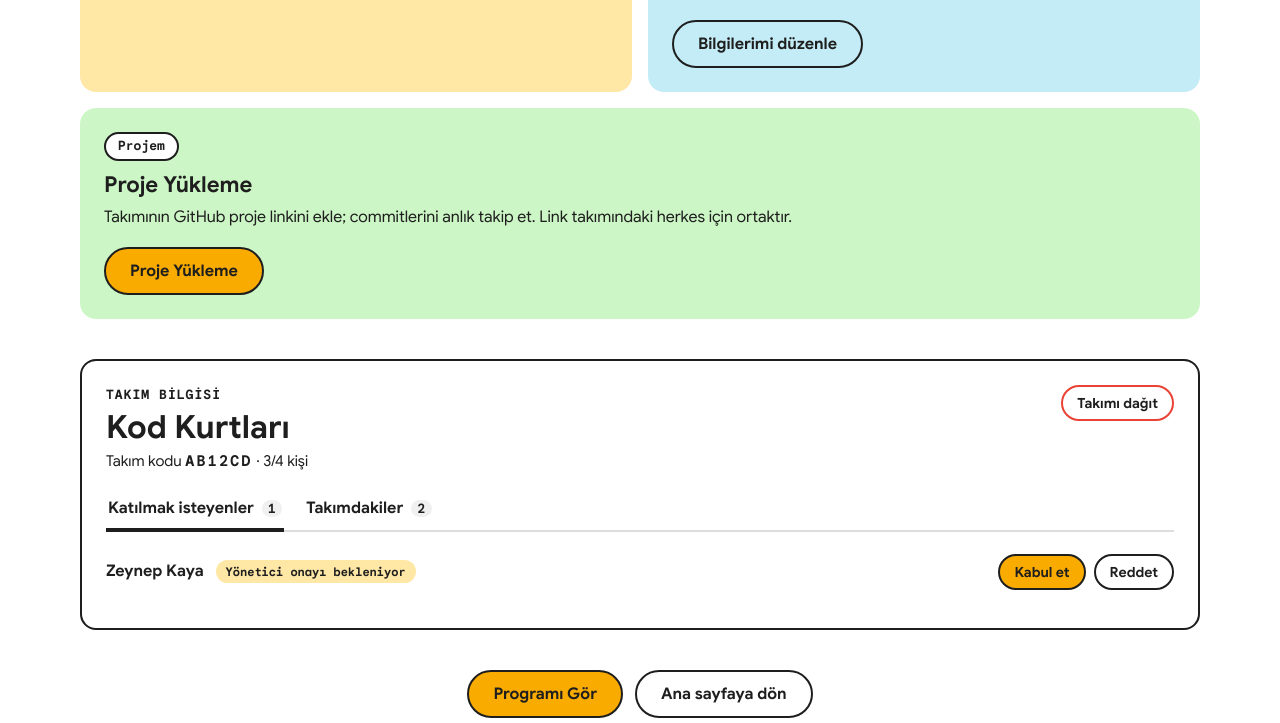
Başvurum sayfası › takımı dağıtmak için e-postaya gelen kod istenir
(page scrolled)
Click the button "Takımı dağıt" at [1118, 403], box [1061,385,1174,421]
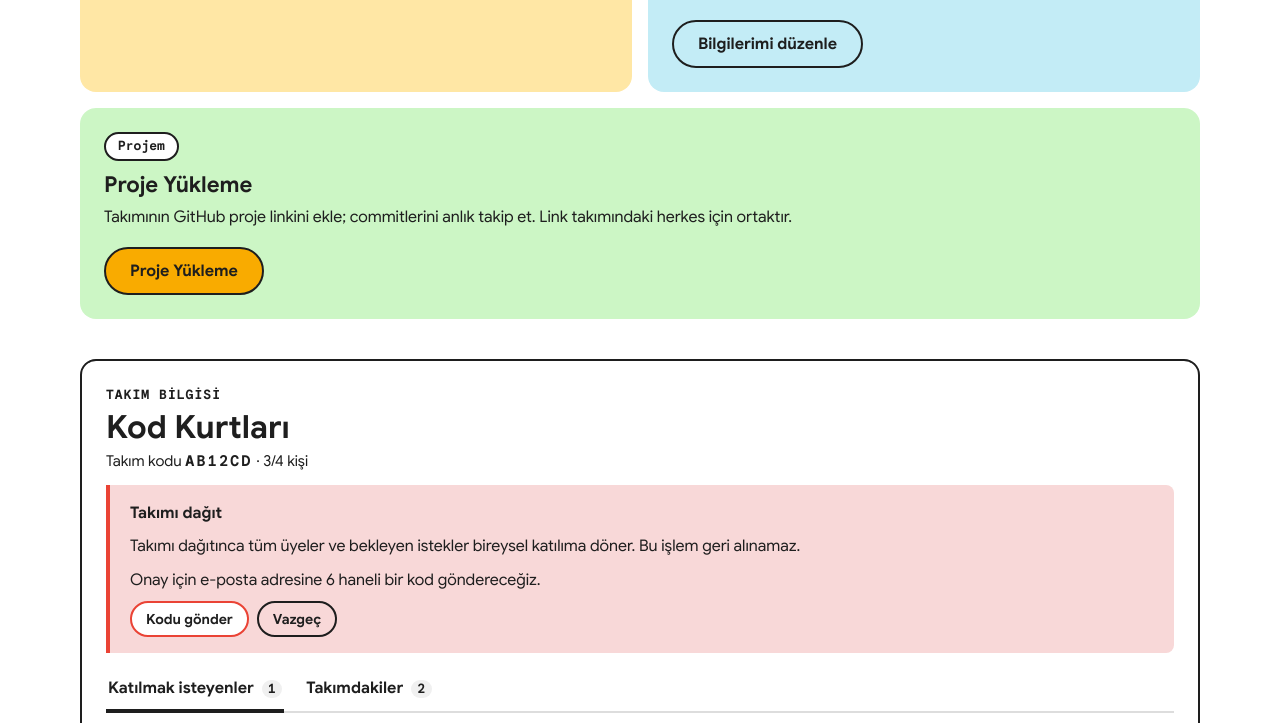
Click the button "Kodu gönder" at [189, 620], box [130,602,249,638]
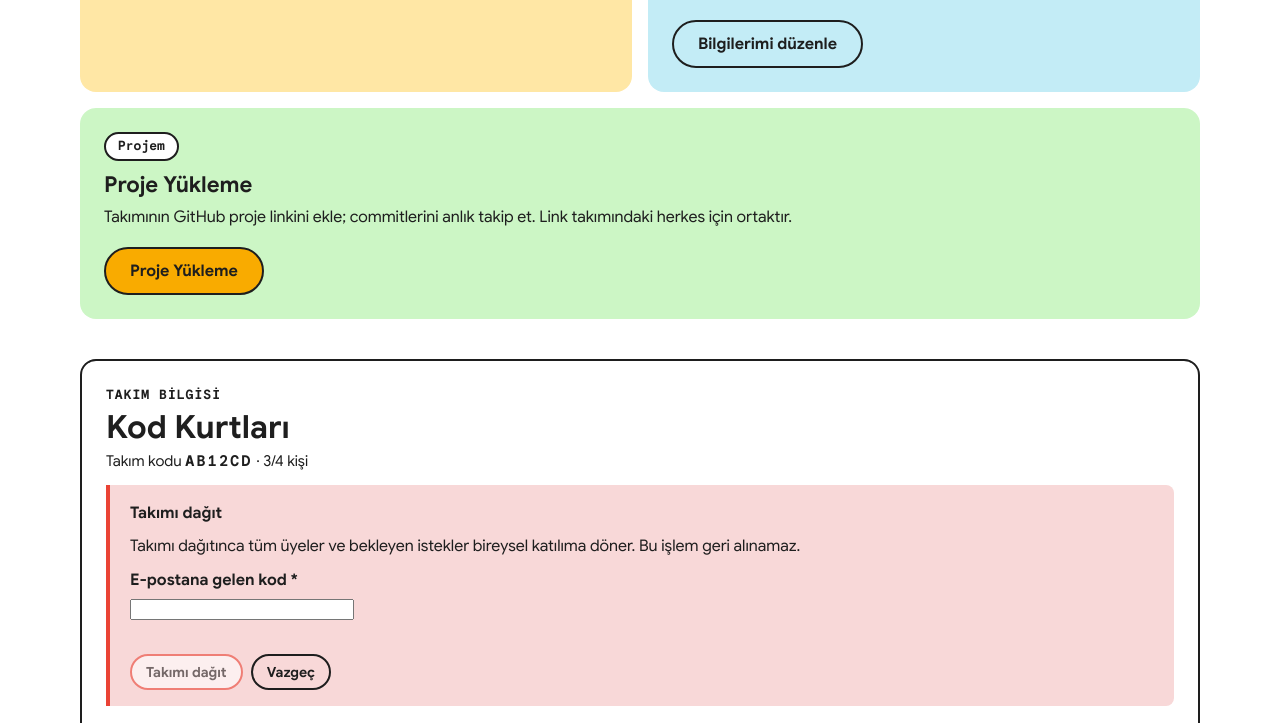
Expected: the button "Takımı dağıt" is disabled, [130,654,243,690]
Type "12a3456" into the field labelled "E-postana gelen kod" at [242, 610], box [130,600,354,620]
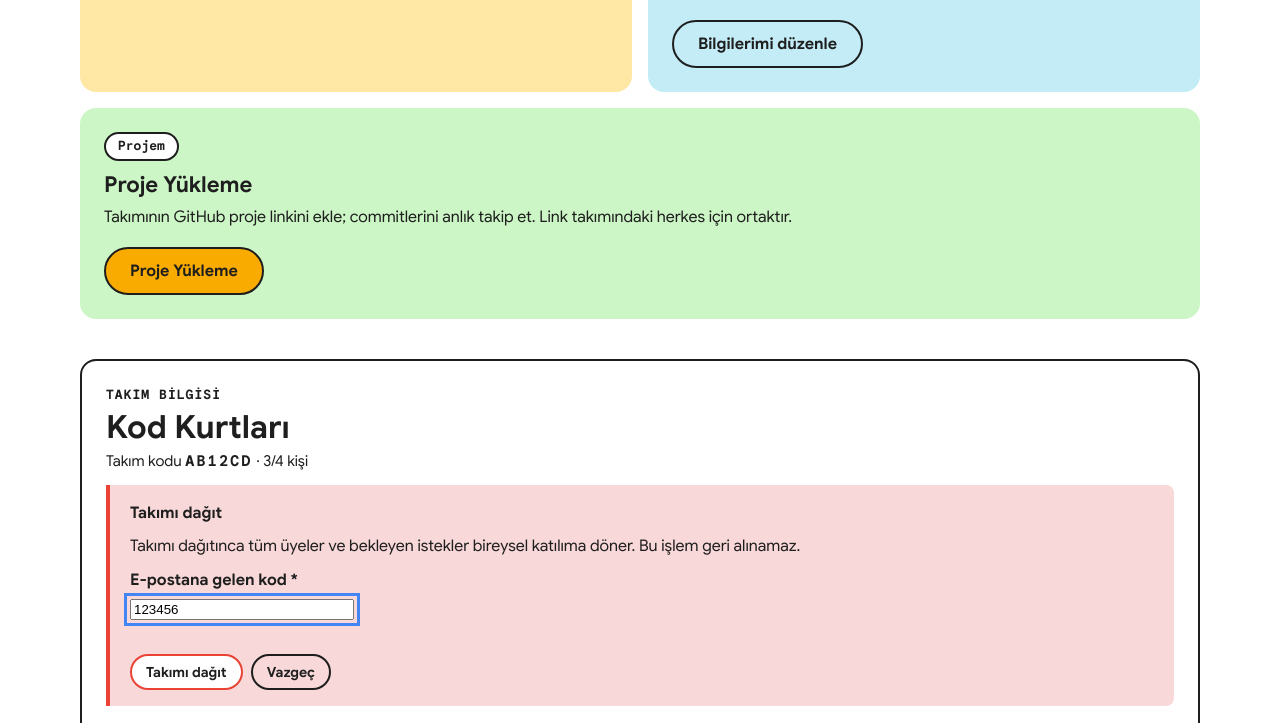
Click the button "Takımı dağıt" at [186, 672], box [130,654,243,690]
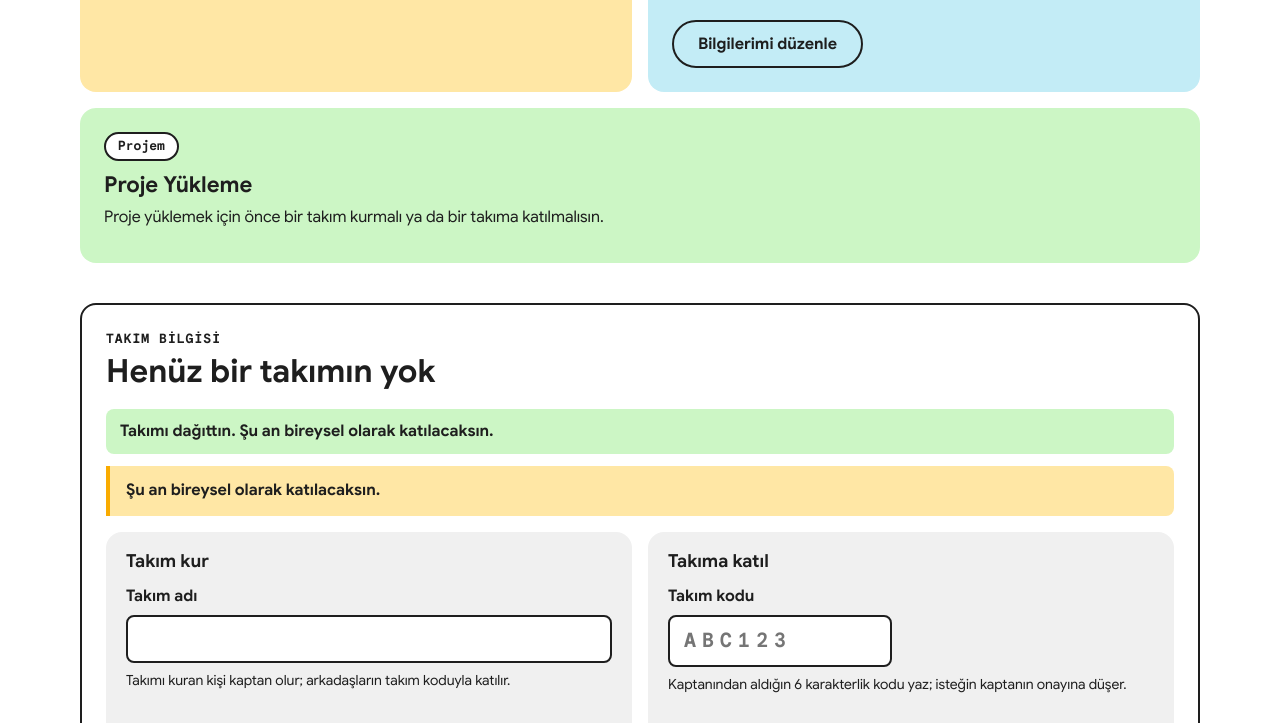
Expected: the text "Takımı dağıttın. Şu an bireysel olarak katılacaksın." is shown, [106,409,1174,454]
Expected: the text "Şu an bireysel olarak katılacaksın." is shown, [106,466,1174,516]
